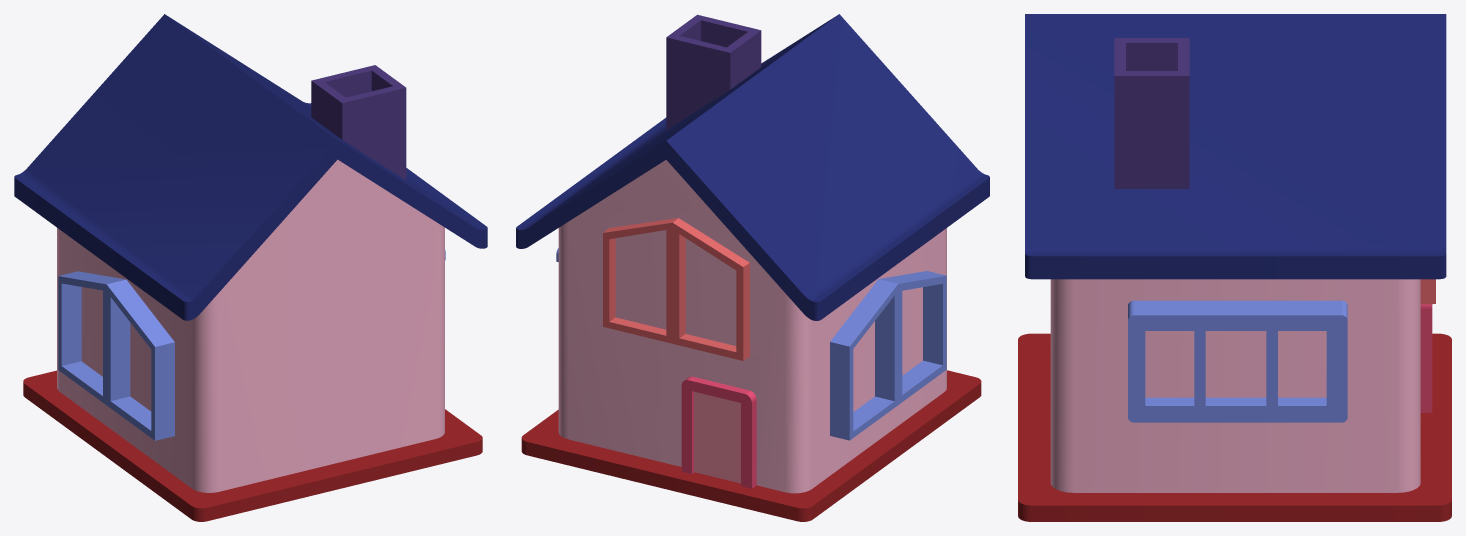
The picture shows the model from 3 angles, left to right: view 1: azimuth 30°, elevation 25°; view 2: azimuth 150°, elevation 25°; view 3: azimuth 270°, elevation 25°; orthographic projection. The views are drawn at different scales.
Visible parts, largest first — view 1: Cube, Cube.001, Cube.002, Cube.009, Cube.010; view 2: Cube.001, Cube, Cube.002, Cube.009, Cube.005, Cube.010, Plane, Cube.003; view 3: Cube.001, Cube, Cube.002, Cube.008, Cube.010, Cube.003.
Part boxes in pixels (x1,y1,x2,y2): Cube: [57, 159, 444, 492]; Cube.001: [14, 14, 487, 320]; Cube.002: [23, 370, 482, 521]; Cube.009: [58, 271, 174, 440]; Cube.010: [311, 65, 406, 179]; Cube.001: [516, 14, 989, 320]; Cube: [558, 160, 946, 493]; Cube.002: [521, 370, 981, 521]; Cube.009: [830, 271, 946, 440]; Cube.005: [603, 218, 749, 360]; Cube.010: [666, 14, 761, 129]; Plane: [694, 391, 740, 483]; Cube.003: [681, 376, 756, 488]; Cube.001: [1025, 14, 1446, 279]; Cube: [1050, 279, 1420, 492]; Cube.002: [1018, 333, 1451, 521]; Cube.008: [1128, 300, 1347, 422]; Cube.010: [1114, 38, 1189, 188]; Cube.003: [1420, 304, 1432, 412].
Bounding box in the file's own units: 2.96 × 3.22 × 3.01.
